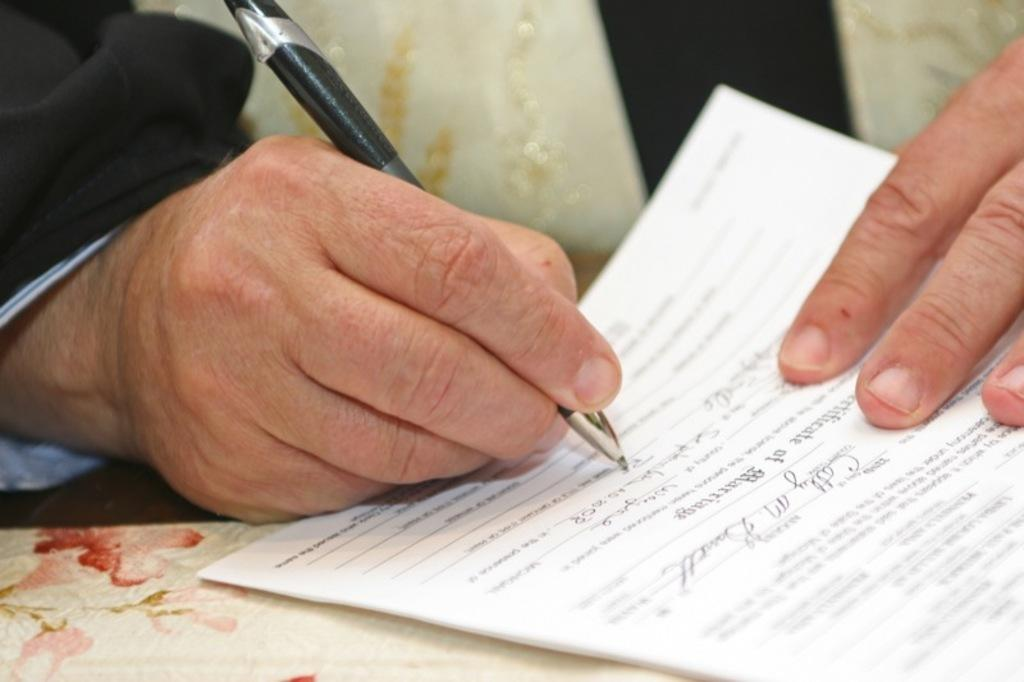pen: (224, 0, 628, 471)
